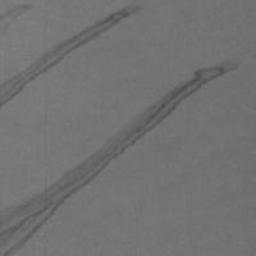Water spot: (0, 56, 242, 256), (0, 1, 143, 111), (0, 1, 36, 37)
